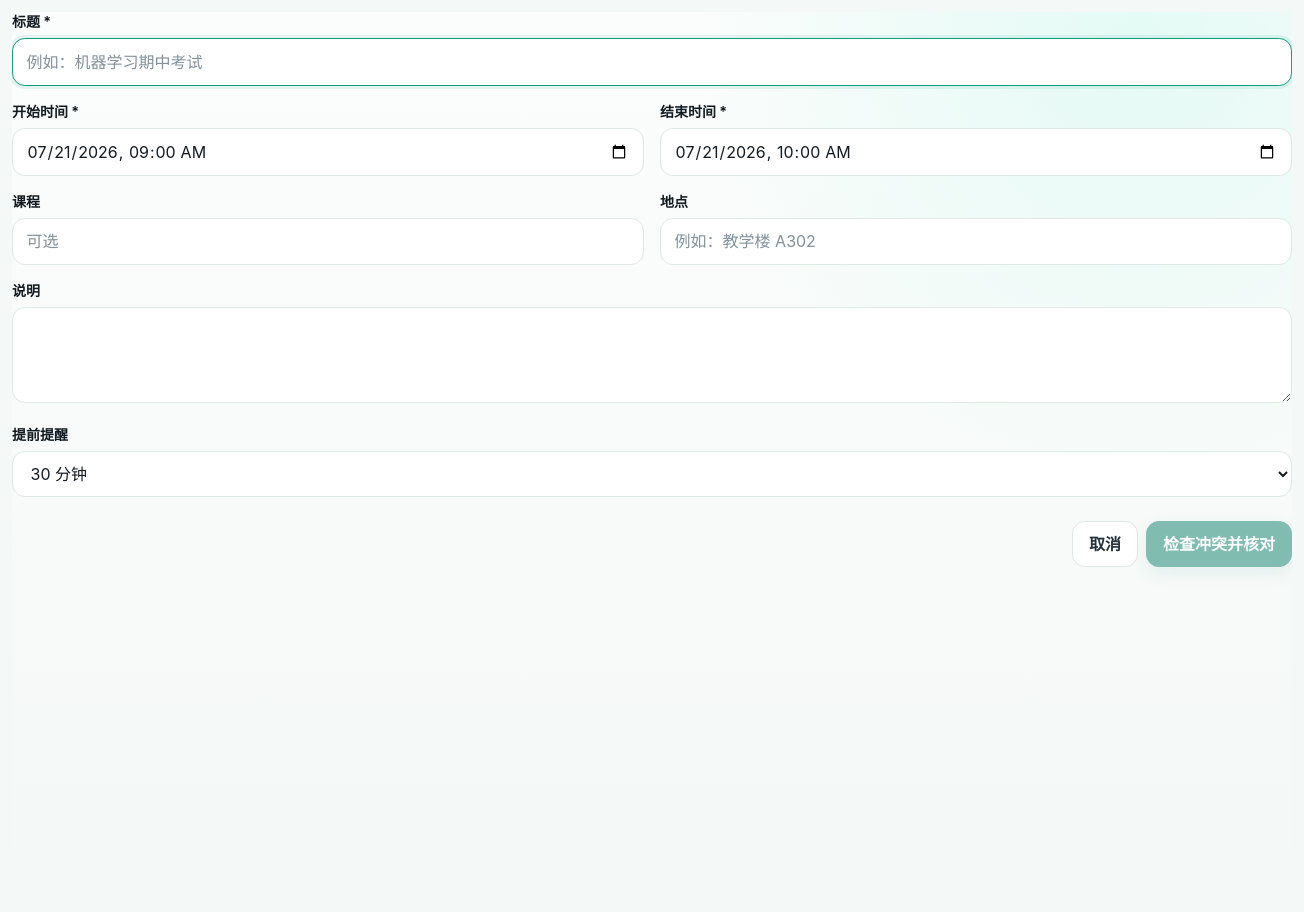
reviewable mutation forms › keeps the editor open when the real conflict precheck cannot complete
Step 1. Type "需要重试检查的日程" into the field labelled "标题 *" → (652, 62), box [12,38,1292,86]
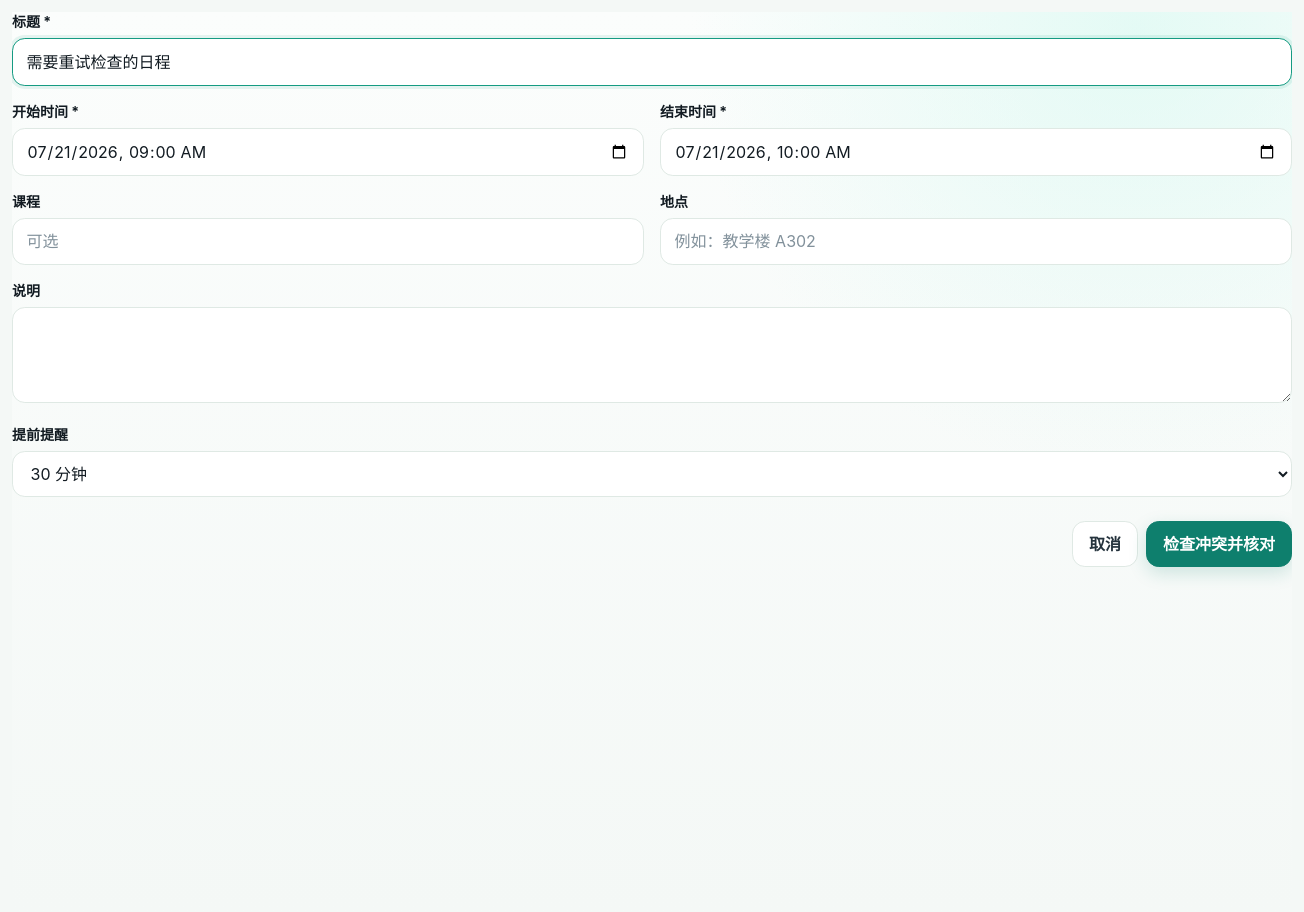
Step 2. Click the button "检查冲突并核对" → (1219, 544), box [1146,521,1292,567]
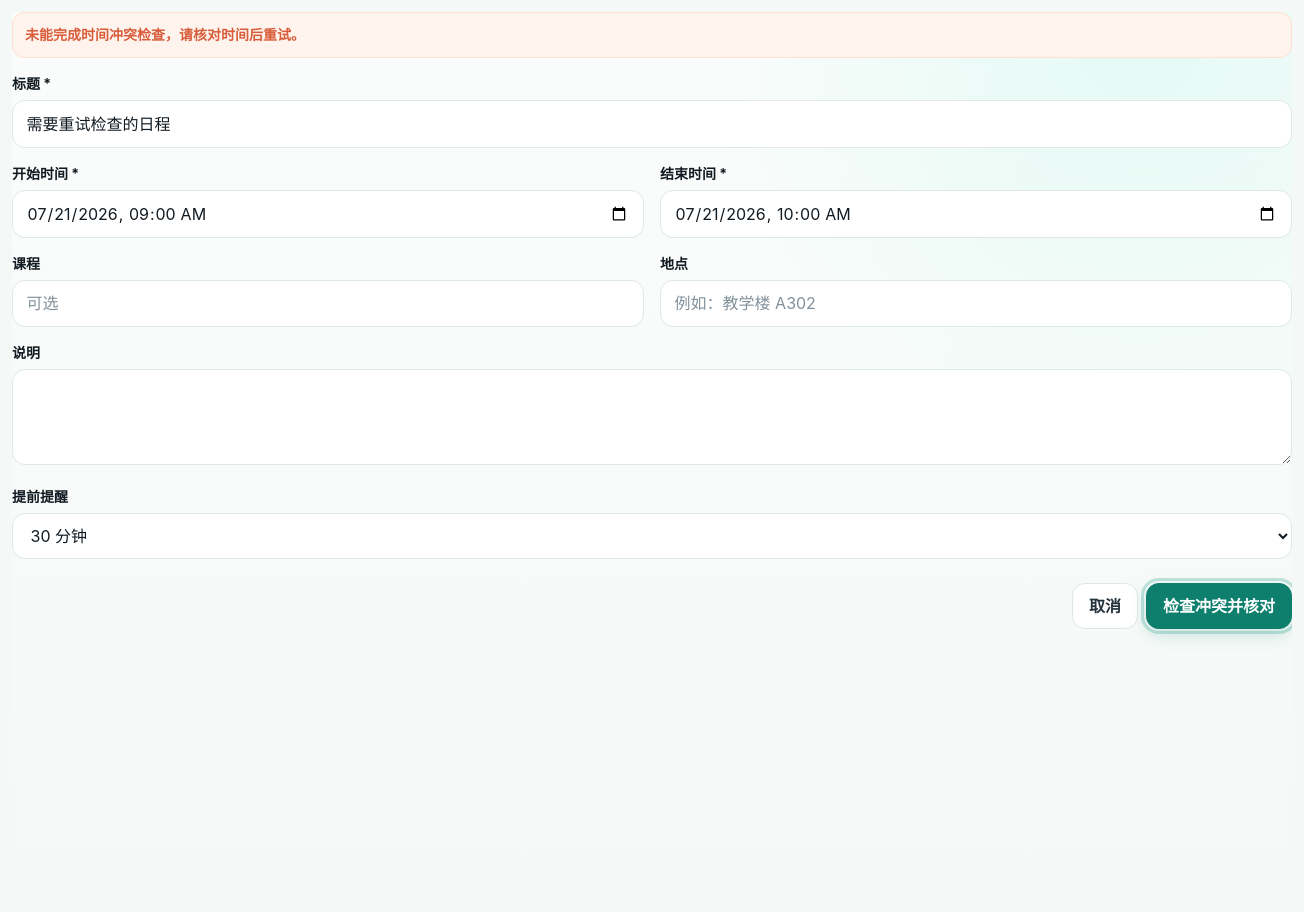
Result: the message shows "未能完成时间冲突检查" at [25,26,305,43]
